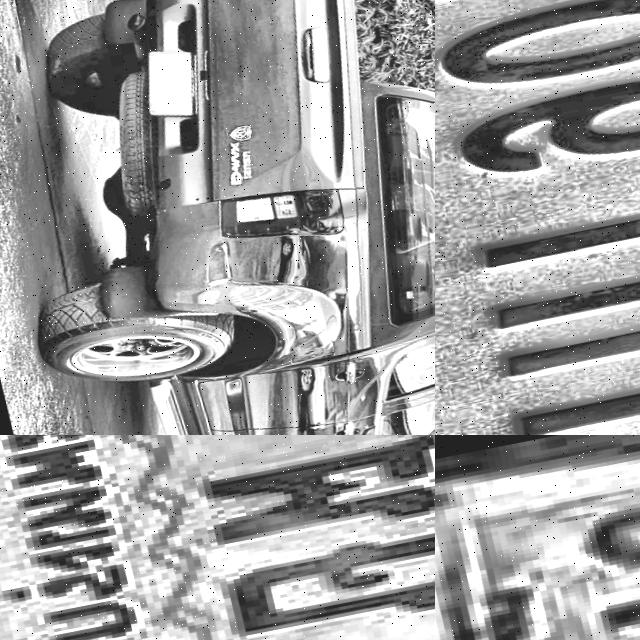license-plate: (435, 0, 640, 435), (0, 435, 435, 640), (435, 435, 640, 640), (130, 38, 214, 127)
